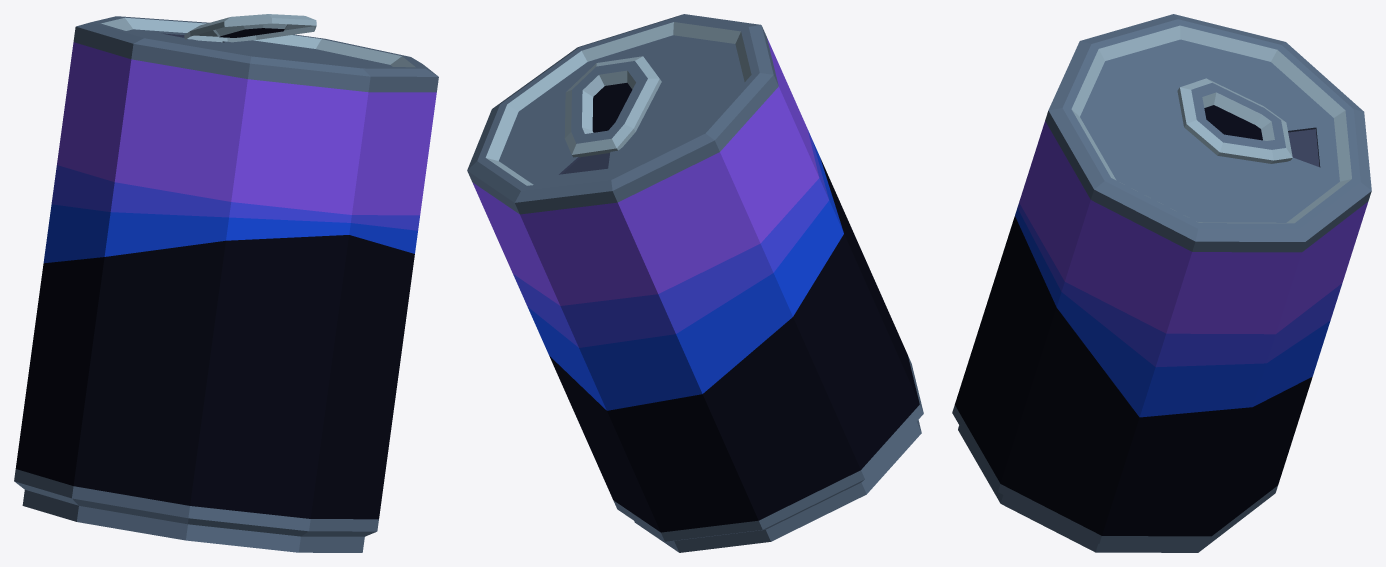
Rendered from DrSwerve.fbx.
3 renders of one model, left to right at view 1: azimuth 30°, elevation 25°; view 2: azimuth 150°, elevation 25°; view 3: azimuth 270°, elevation 25°, orthographic. The views are drawn at different scales.
Visible parts, largest first — view 1: DrSwerve; view 2: DrSwerve; view 3: DrSwerve.
Boxes of the visible parts, x1,y1,x2,y2 form: DrSwerve: (14, 14, 438, 552); DrSwerve: (467, 14, 923, 552); DrSwerve: (952, 14, 1371, 552).
Bounding box in the file's own units: 67.64 × 81.68 × 64.9.
